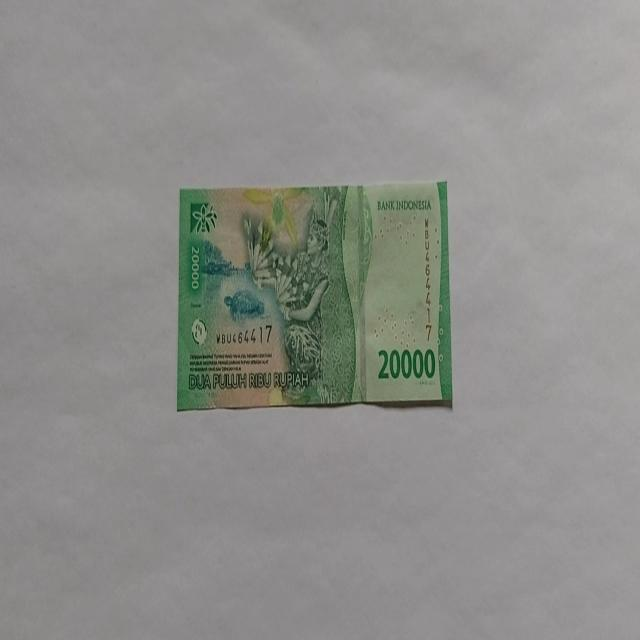dua puluh ribu rupiah: (176, 180, 454, 412), (242, 184, 372, 406)
